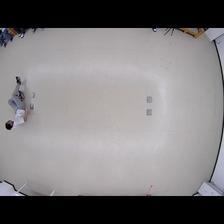fall: (5, 73, 28, 132)
